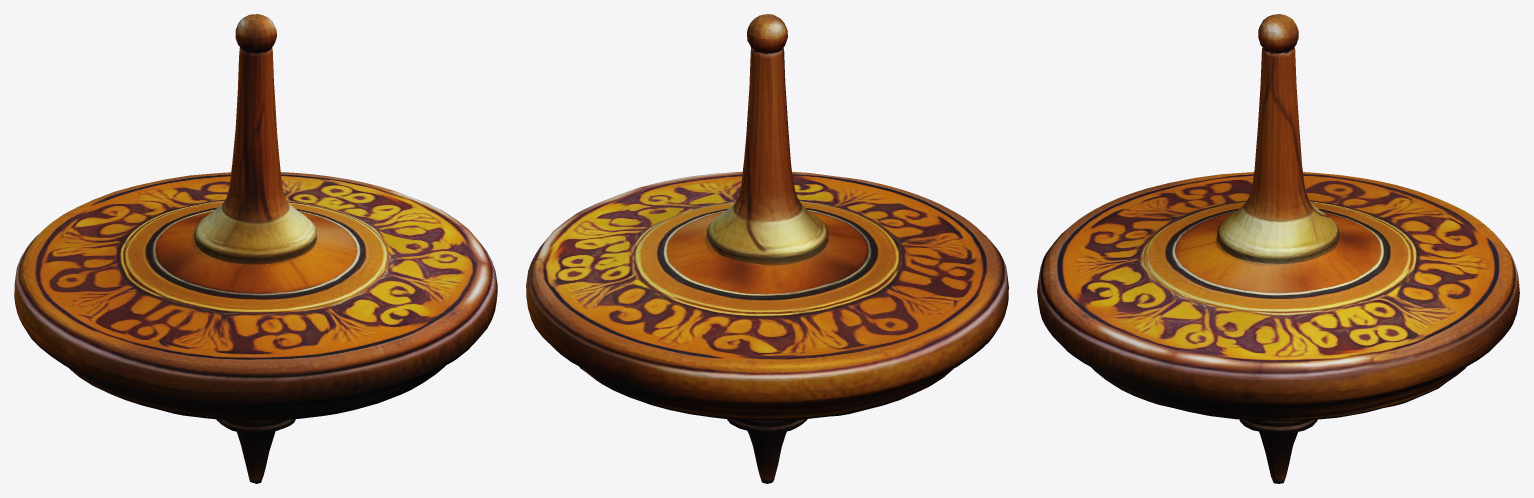
The model's file is wooden-spinning-top-vintage.jpeg.glb.
3 renders of one model, left to right at view 1: azimuth 30°, elevation 25°; view 2: azimuth 150°, elevation 25°; view 3: azimuth 270°, elevation 25°, orthographic.
Parts seen in each view (by area): view 1: world; view 2: world; view 3: world.
Boxes of the visible parts, bbox=[...] form: world: bbox=[14, 14, 497, 483]; world: bbox=[526, 14, 1008, 483]; world: bbox=[1037, 14, 1519, 483].
Size of the model in its own units: 0.9412 by 1 by 0.9412.
Materials: 1 (1 with a texture image).
